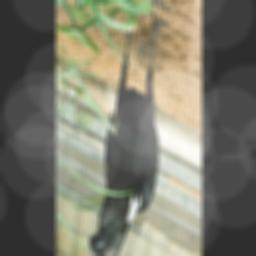Crow: (84, 0, 172, 256)
